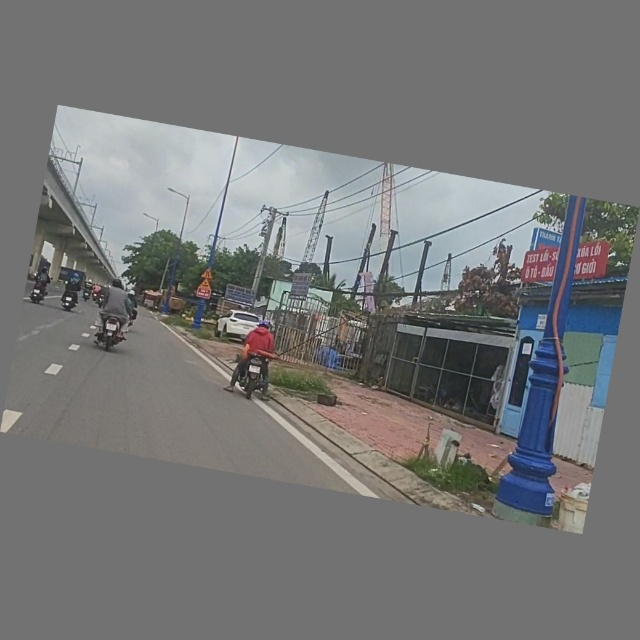W.203c: (200, 267, 216, 280)
W.245a: (199, 278, 213, 291)
